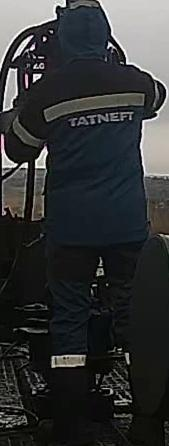vest: (11, 59, 159, 259)
